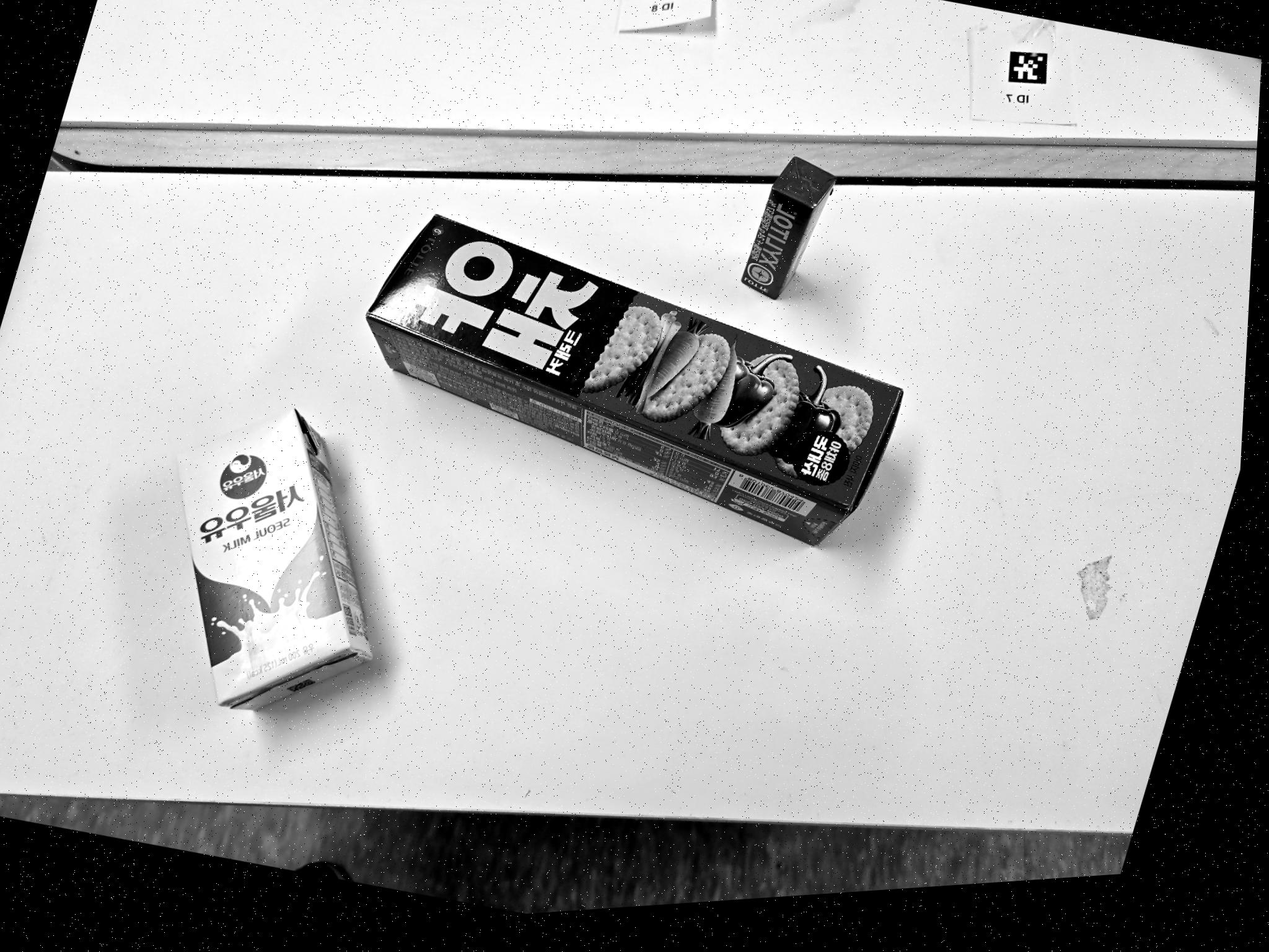cracker_vege: (367, 215, 902, 545)
gum_green: (742, 157, 836, 298)
milk_green: (179, 411, 372, 708)
